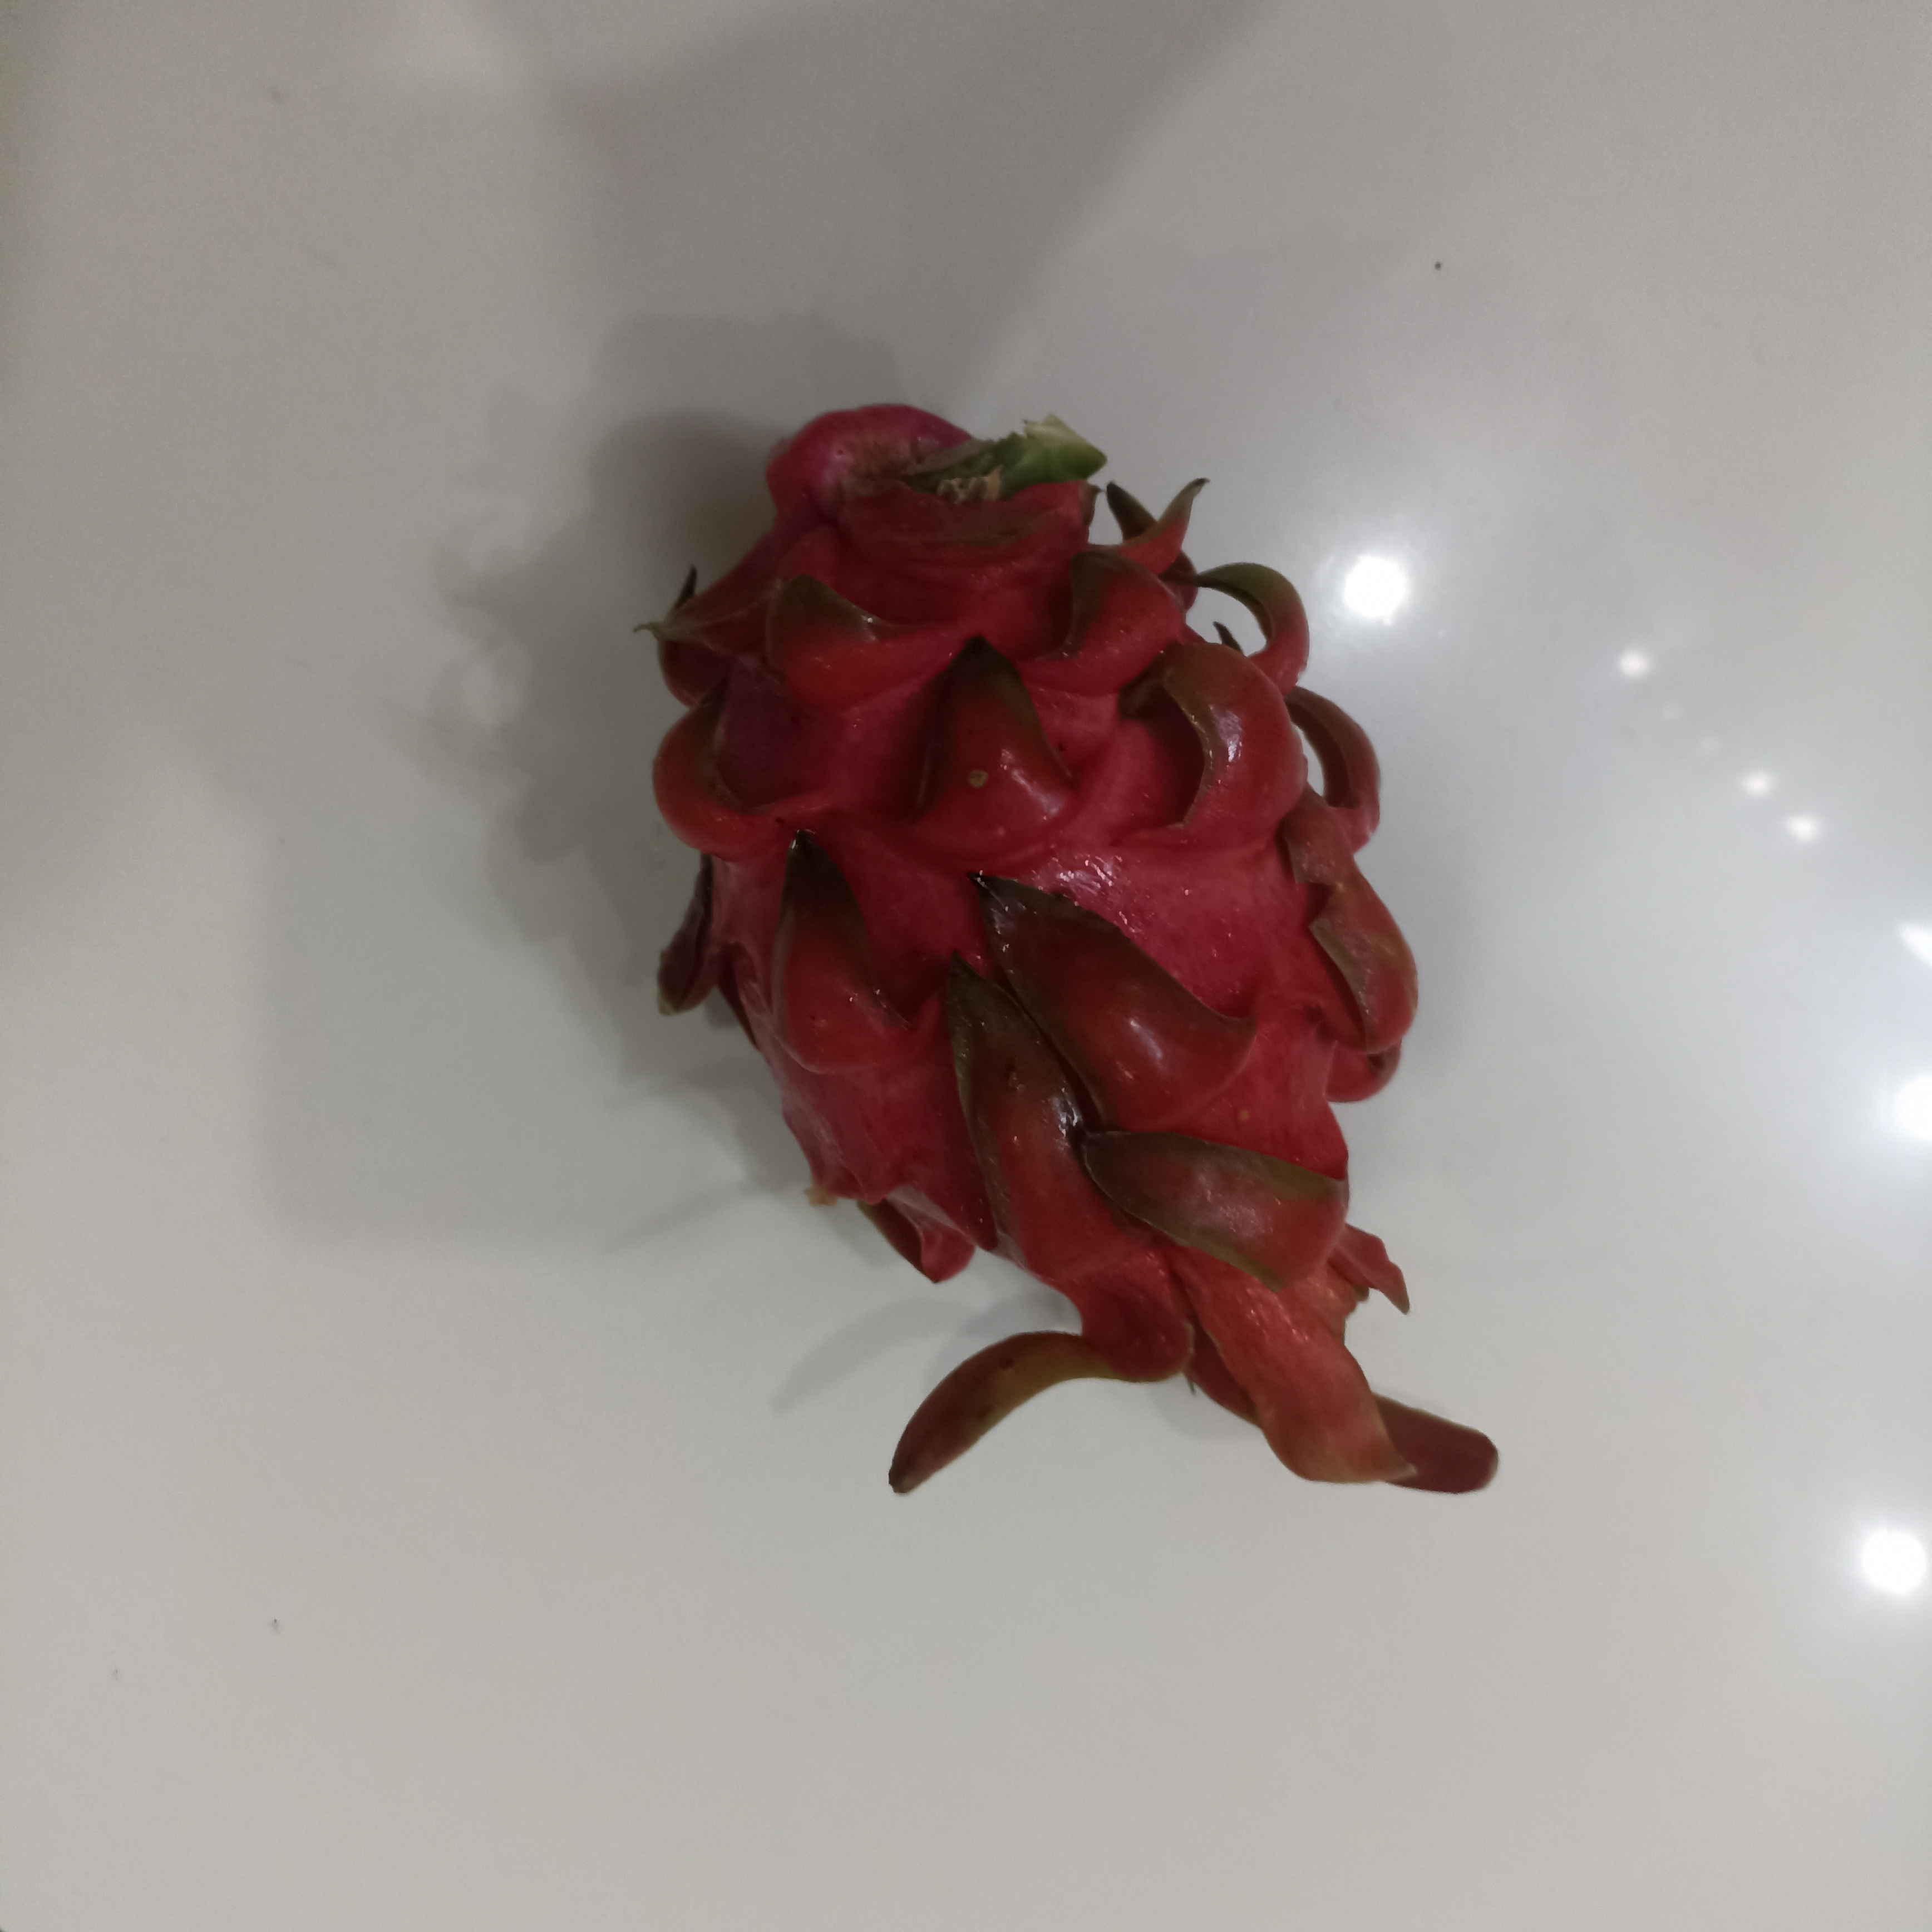Thanh long: (704, 407, 1405, 1339)
